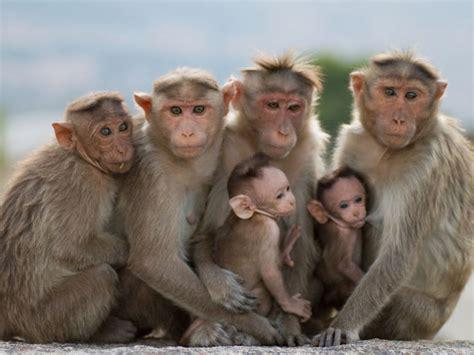monkey: (108, 69, 281, 346), (313, 54, 474, 346), (195, 60, 320, 346), (1, 91, 134, 343), (216, 155, 311, 321), (307, 165, 367, 301)
